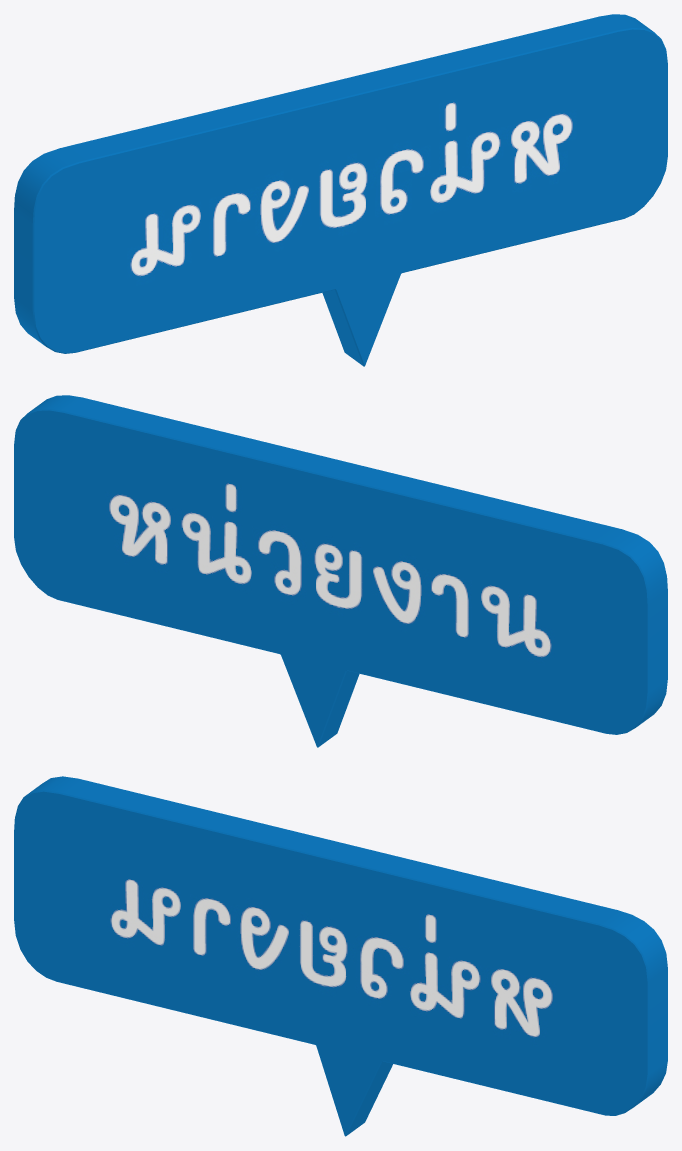
Rendered from button_Origanize.glb.
3 views of the same model, one above another, from view 1: azimuth 30°, elevation 25°; view 2: azimuth 150°, elevation 25°; view 3: azimuth 330°, elevation 25° (orthographic).
Parts seen in each view (by area): view 1: button:PIV; view 2: button:PIV; view 3: button:PIV.
Boxes of the visible parts, x1,y1,x2,y2 form: button:PIV: (14,14,667,366); button:PIV: (14,395,667,747); button:PIV: (14,776,667,1136).
Size of the model in its own units: 1.97 by 0.8125 by 0.107.
1 material, 1 textured.
